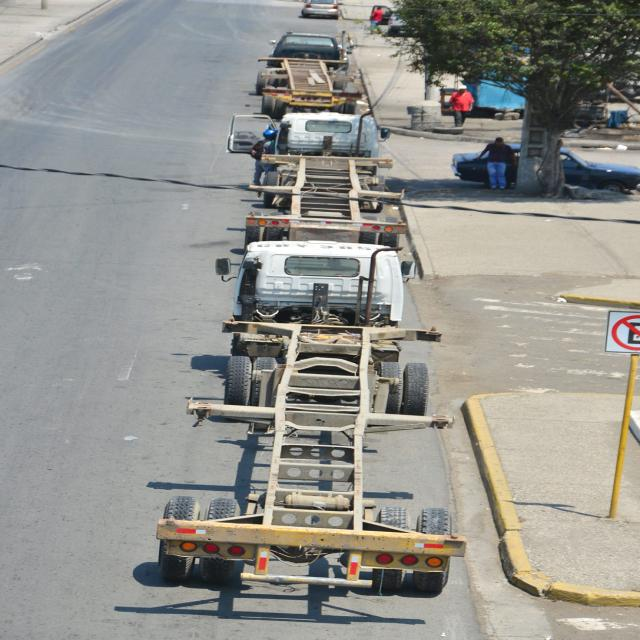TRUCK: (151, 244, 442, 605), (258, 109, 403, 242)
